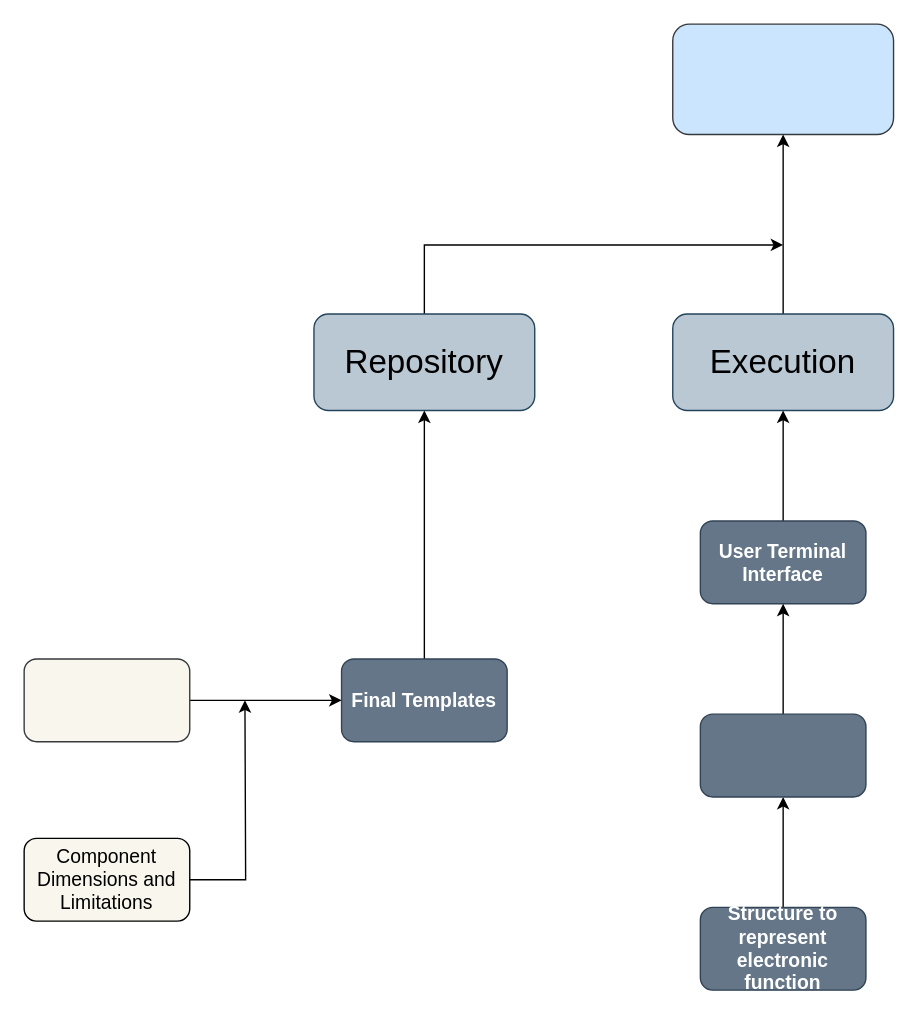
The diagram is 918 pixels wide and 1018 high, and some of its shapes have lost their labels. Here are the shapes that lost their labels. From the top down, the centre of each, then its label:
At point (782, 79): "PROJECT".
At point (106, 700): "List of Available Components".
At point (782, 755): "Main Circuit Generator".
